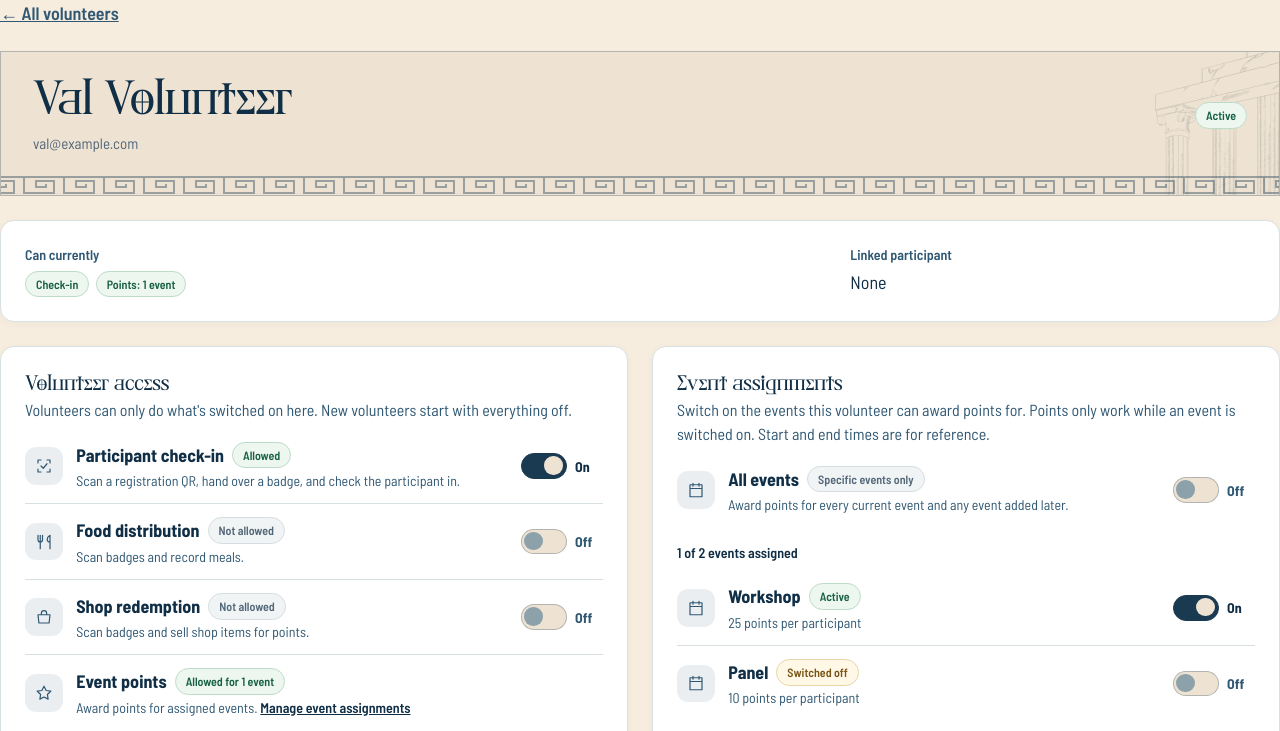
it: VolunteerDetailPage › assigns every current and future event with All events
Click the switch labelled "Off" in the row of "All events": (1214, 490) top-left (1173, 468), bottom-right (1255, 512)
(page scrolled)
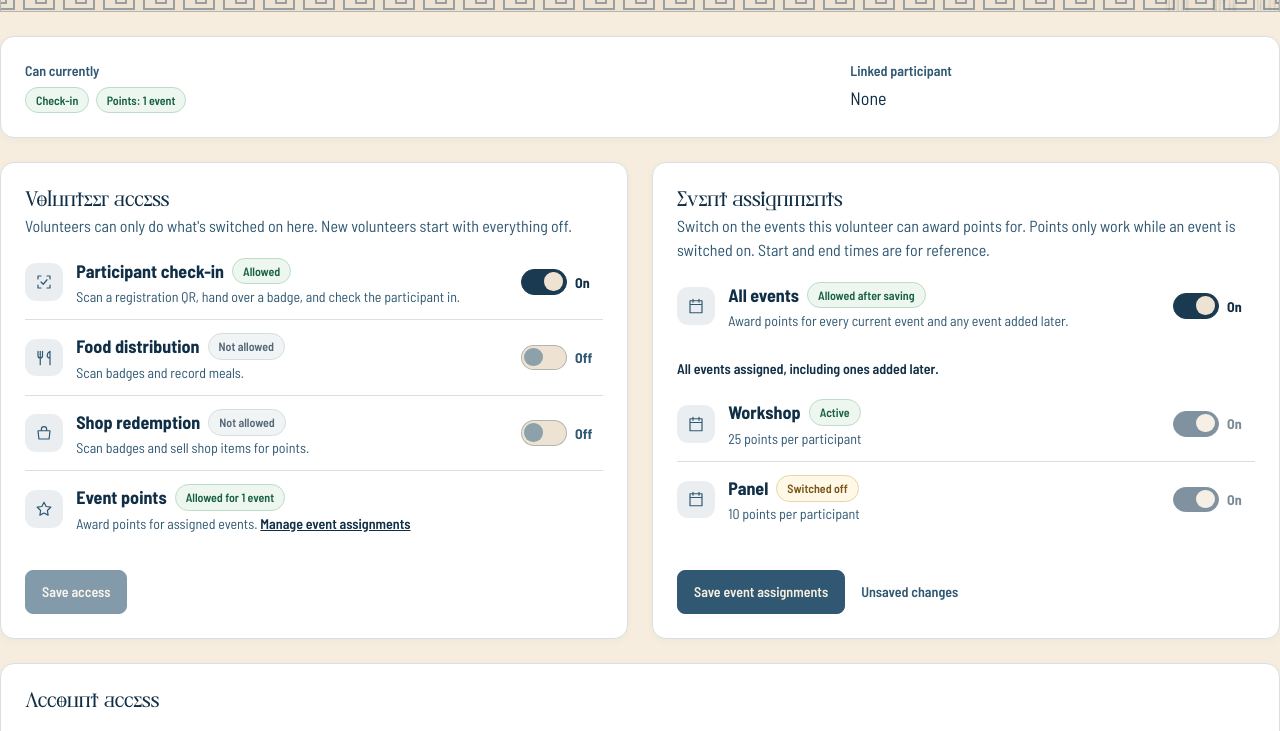
Now the text "All events assigned, including ones added later." is shown, box top-left (677, 360), bottom-right (938, 377)
Submit the form that starts with "Event assignments", box top-left (652, 162), bottom-right (1279, 639)
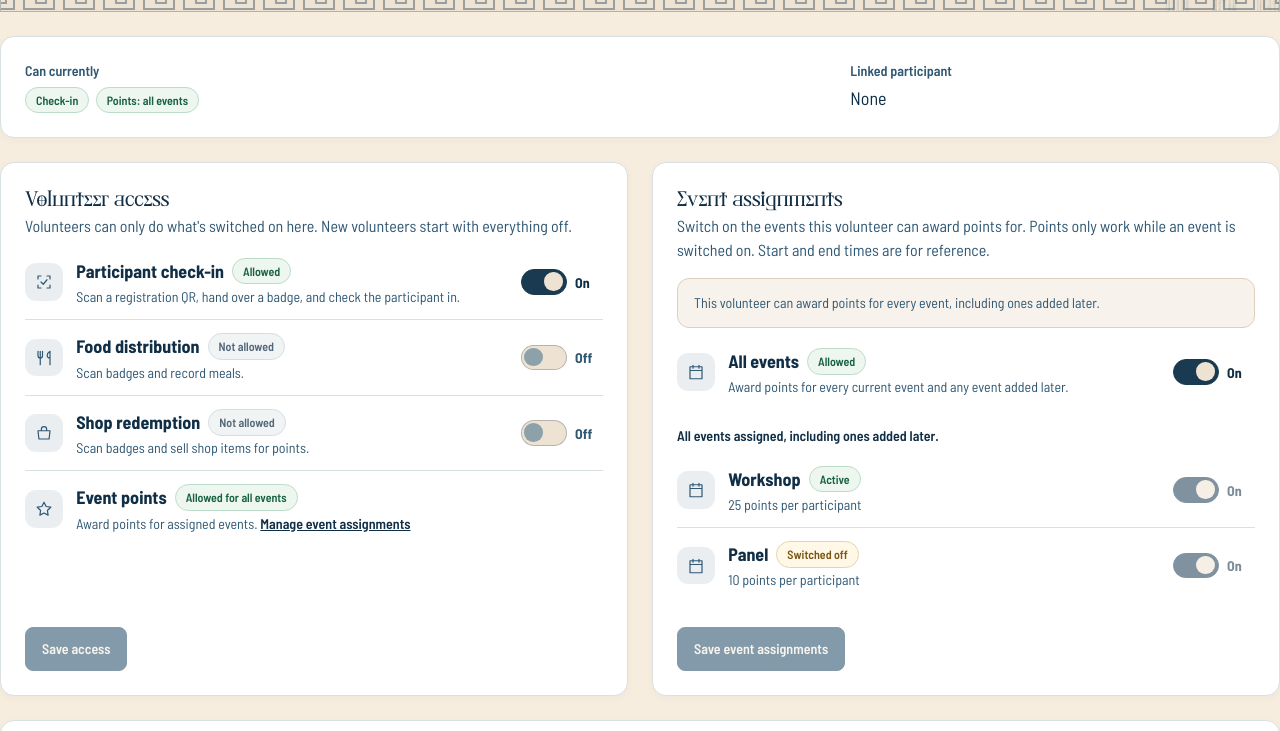
Now the text "This volunteer can award points for every event, including ones added later." is shown, box top-left (677, 278), bottom-right (1255, 328)
Now the text "Allowed for all events" is shown, box top-left (175, 484), bottom-right (298, 511)
Now the text "Points: all events" is shown, box top-left (96, 86), bottom-right (199, 113)
